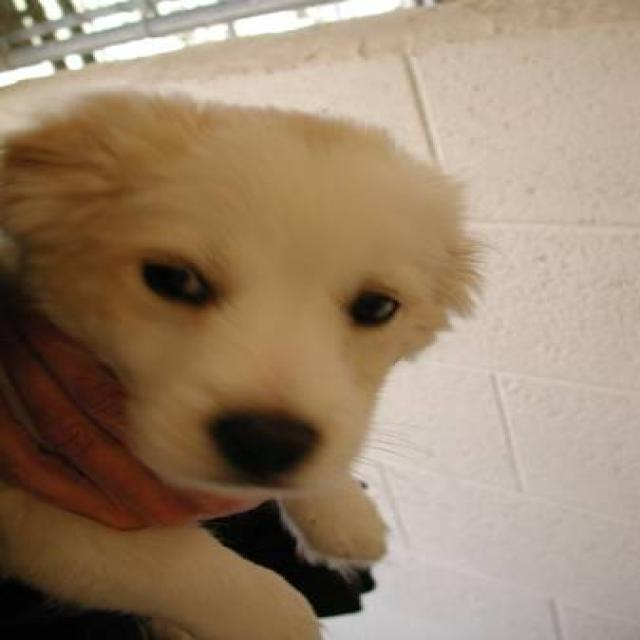dog: (0, 84, 488, 639)
